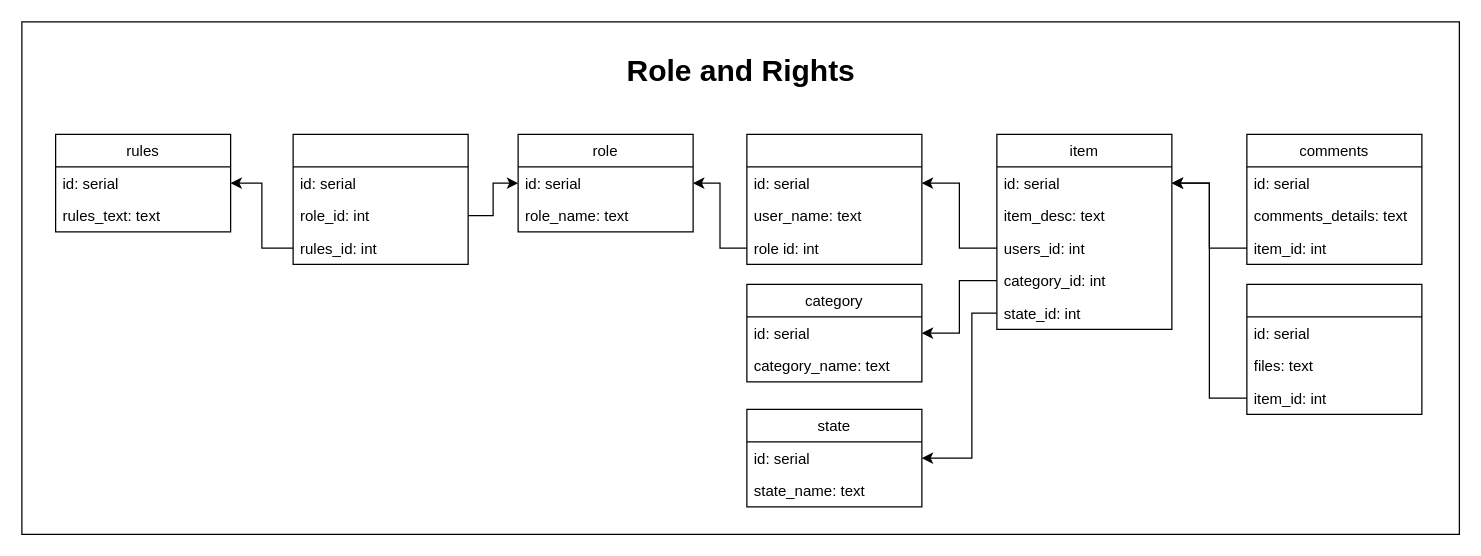
The diagram is 1481 pixels wide and 556 high, and some of its shapes have lost their labels. Each missing label, with the box of its shape:
attachs: (1246, 283, 1422, 414)
role_rules: (292, 133, 468, 264)
users: (746, 133, 922, 264)
